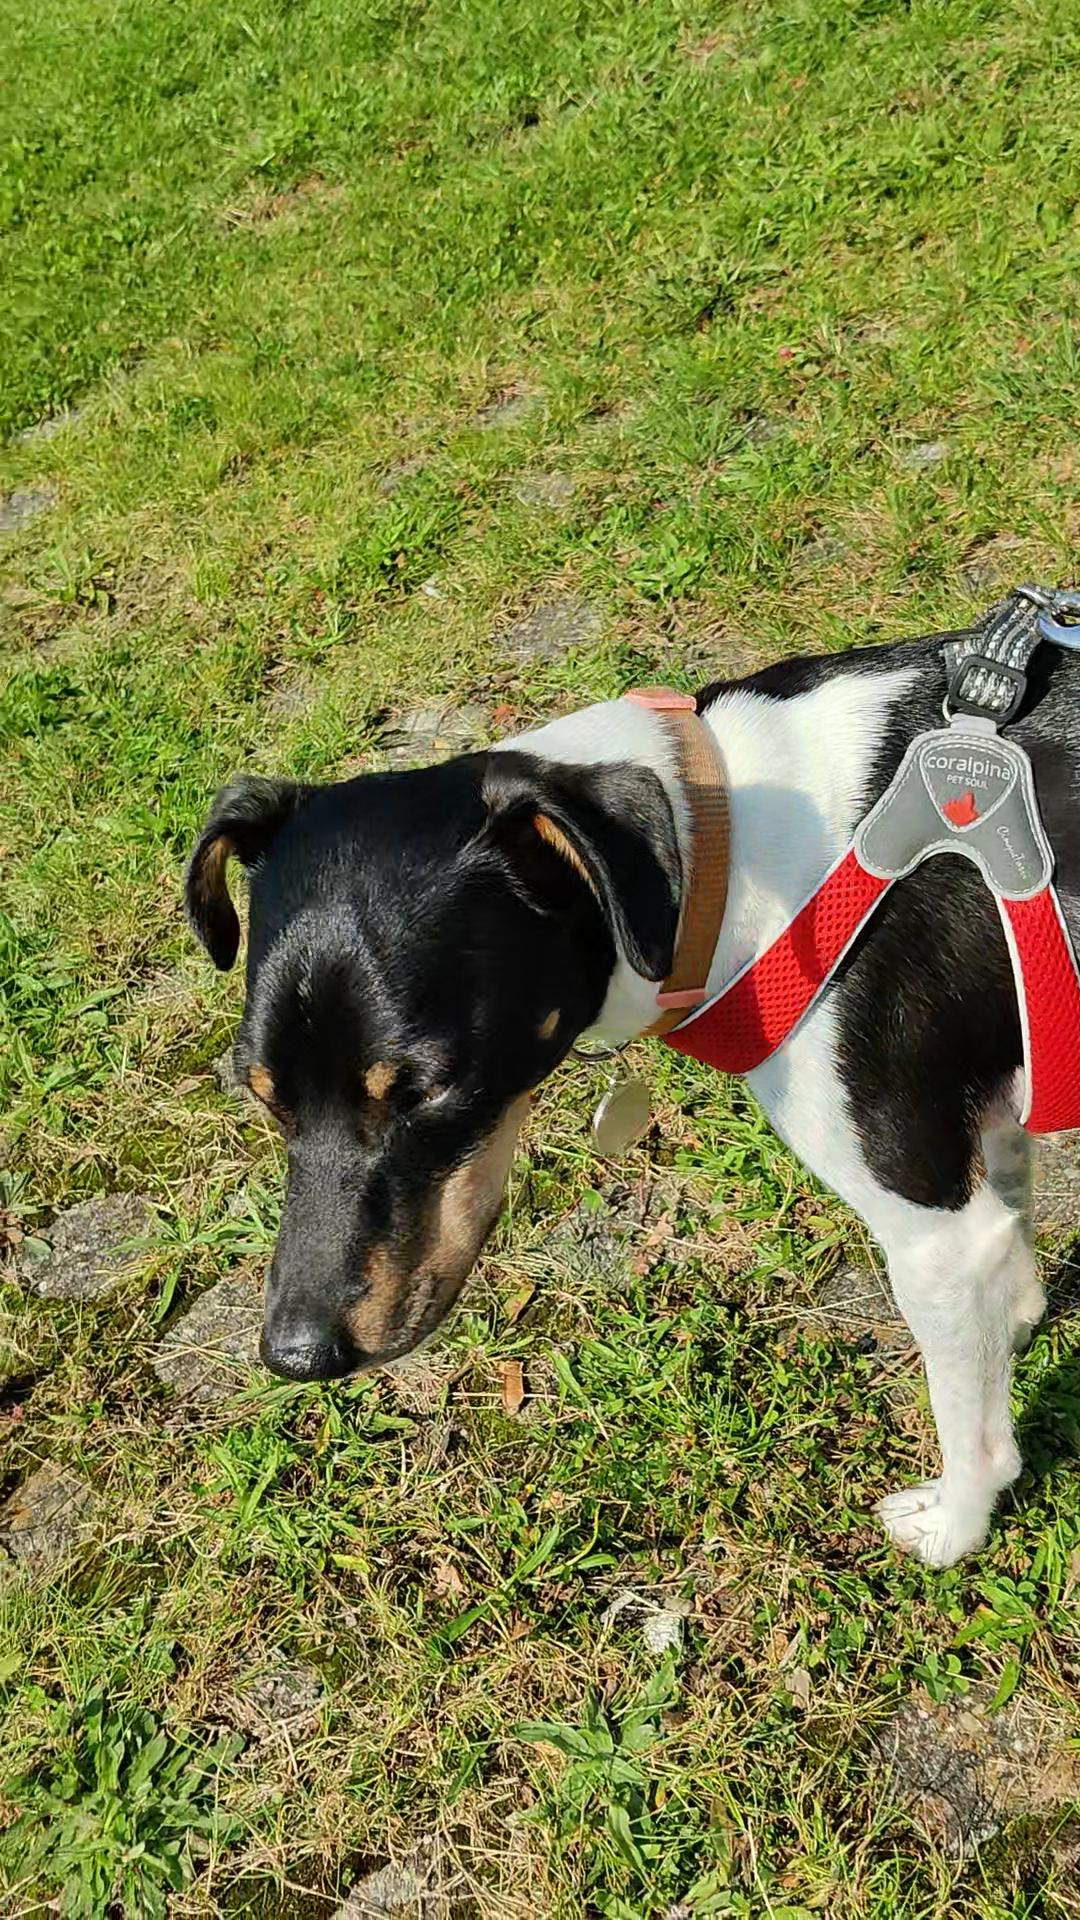Dog: (170, 549, 1079, 1582)
